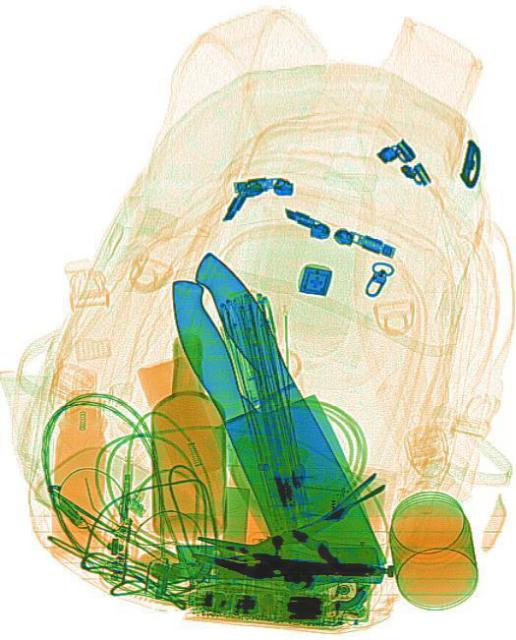Knife: (140, 236, 382, 612), (156, 239, 390, 609)
